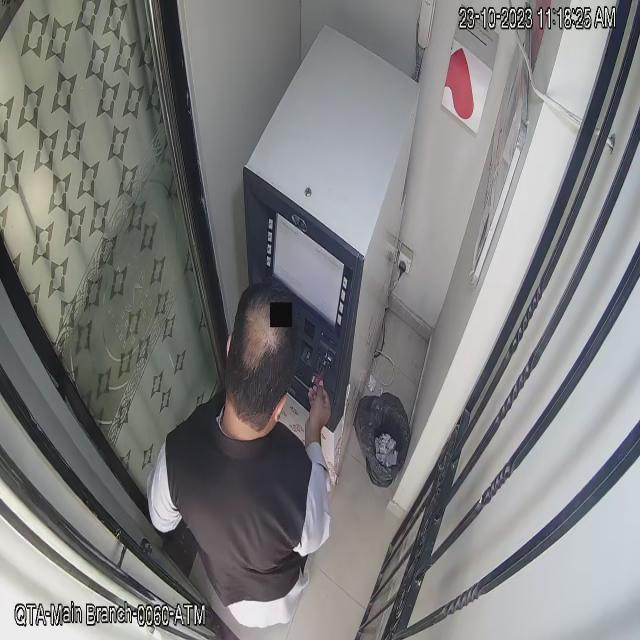atm-card: (306, 345, 336, 396)
